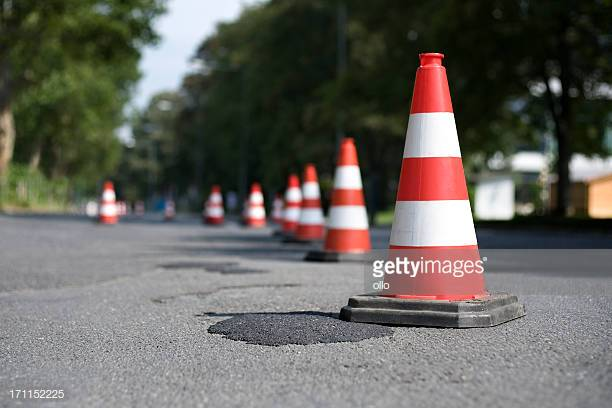cone: (340, 52, 528, 327), (306, 137, 391, 262), (284, 163, 343, 245), (273, 173, 314, 238)
